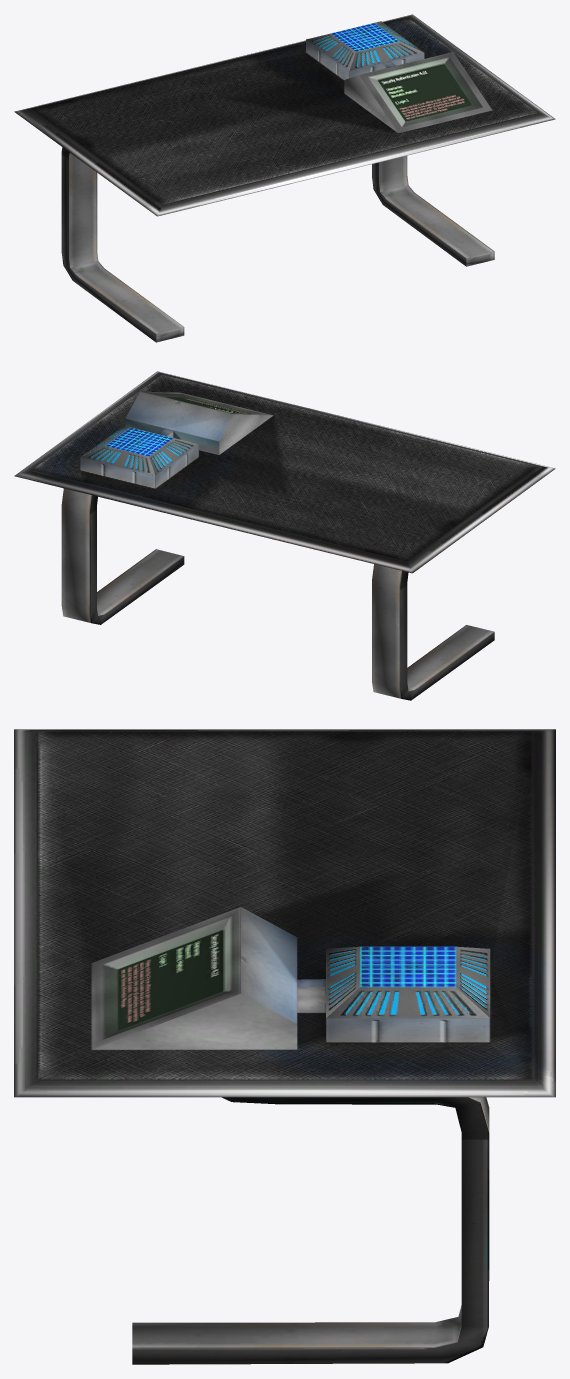
Rendered from DESK01.glb.
The picture shows the model from 3 angles, top to bottom: view 1: azimuth 30°, elevation 25°; view 2: azimuth 150°, elevation 25°; view 3: azimuth 270°, elevation 25°; orthographic projection. The views are drawn at different scales.
Parts seen in each view (by area): view 1: Box01; view 2: Box01; view 3: Box01.
Boxes of the visible parts, <box> form: Box01: <box>14,14,555,342</box>; Box01: <box>14,371,555,700</box>; Box01: <box>14,729,555,1364</box>.
Bounding box in the file's own units: 110 × 50.17 × 68.56.
1 material, 1 textured.
